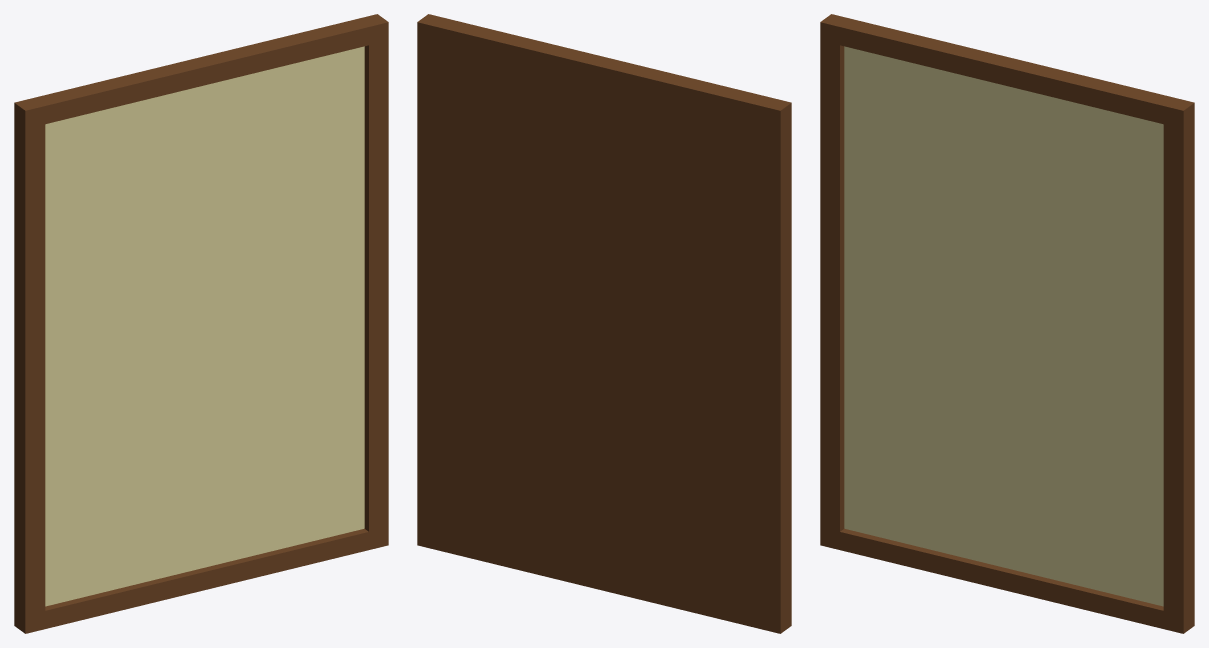
File: Frame.fbx
The picture shows the model from 3 angles, left to right: view 1: azimuth 30°, elevation 25°; view 2: azimuth 150°, elevation 25°; view 3: azimuth 330°, elevation 25°; orthographic projection.
Visible parts, largest first — view 1: Frame; view 2: Frame; view 3: Frame.
Part boxes in pixels (bbox=[...]): Frame: bbox=[14, 14, 388, 633]; Frame: bbox=[417, 14, 791, 633]; Frame: bbox=[820, 14, 1194, 633].
Size of the model in its own units: 90.99 by 125 by 4.87.
